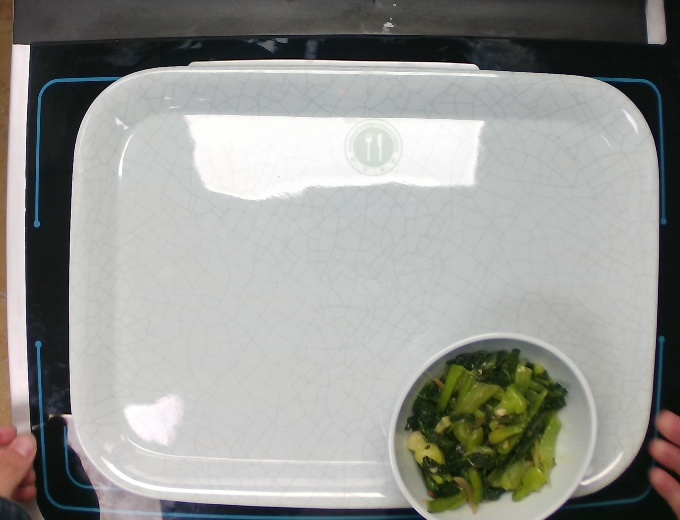JYsf-Fan_Wan: (383, 329, 599, 520)
